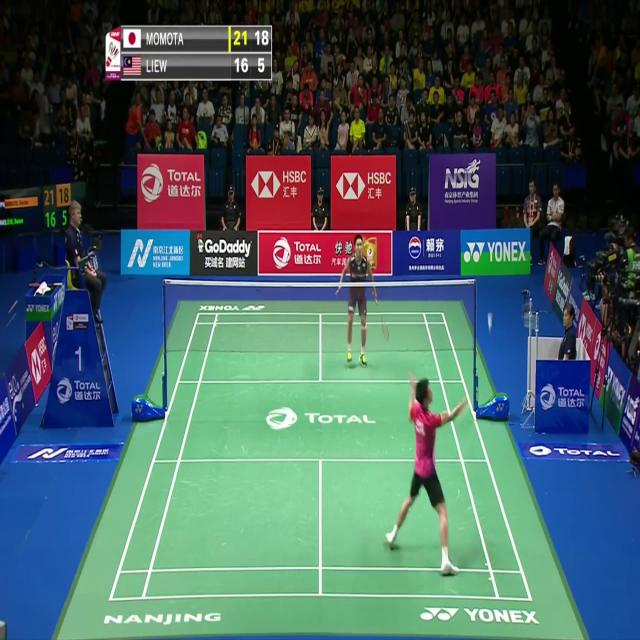Shuttlecock: (486, 314, 493, 326)
